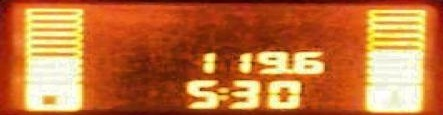-: (286, 67, 291, 74)
0: (265, 79, 301, 109)
1: (200, 50, 215, 73), (237, 51, 252, 73)
3: (226, 78, 260, 108)
5: (183, 78, 218, 109)
6: (290, 51, 321, 74)
9: (255, 51, 286, 74)
X: (215, 86, 228, 99)
